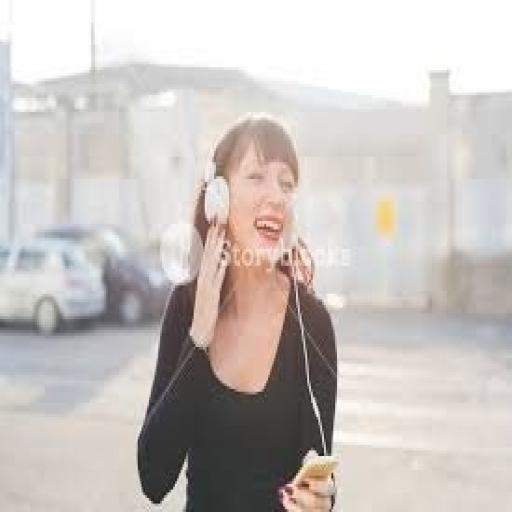listening_to_music: (134, 109, 341, 509)
